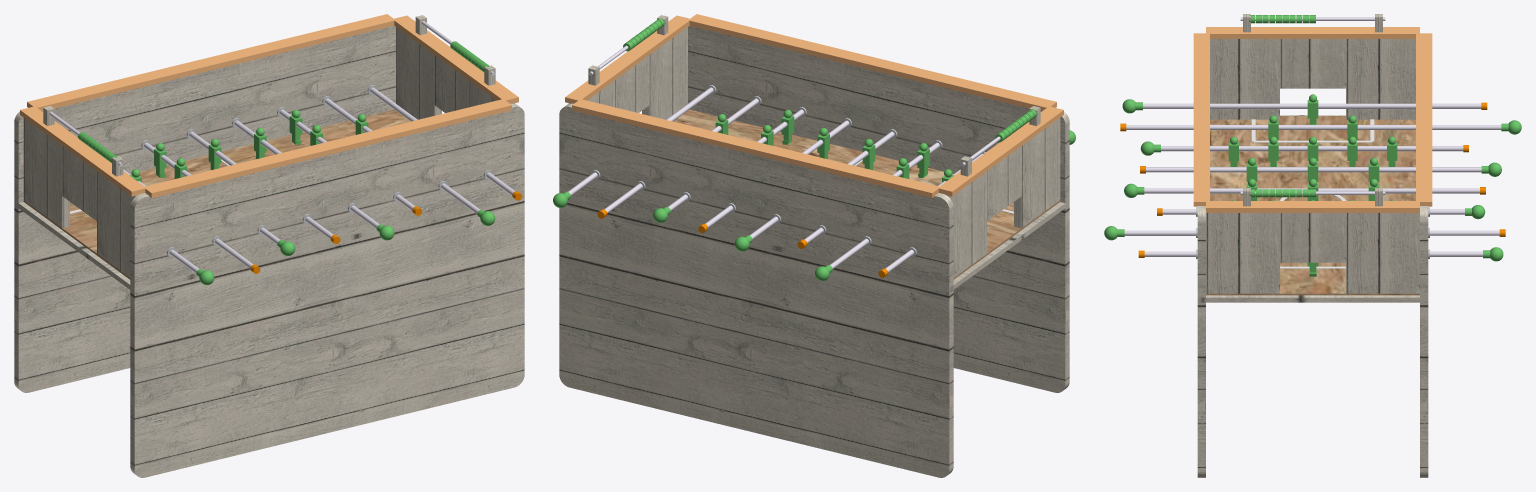
Rendered from Sports_Table_football__0018.glb.
3 renders of one model, left to right at view 1: azimuth 30°, elevation 25°; view 2: azimuth 150°, elevation 25°; view 3: azimuth 270°, elevation 25°, orthographic. The views are drawn at different scales.
Parts seen in each view (by area): view 1: cabinet::side_panel_0, cabinet::side_panel_1, cabinet::side_rim_0, cabinet::side_rim_1, cabinet::pitch, cabinet::end_wall_0_post_b, cabinet::end_wall_1_post_b, cabinet::cabinet_base, cabinet::end_wall_0_post_a, cabinet::end_rim_0, cabinet::end_rim_1, cabinet::end_wall_0_lintel (+2 smaller); view 2: cabinet::side_panel_1, cabinet::side_panel_0, cabinet::side_rim_1, cabinet::side_rim_0, cabinet::pitch, cabinet::end_wall_0_post_a, cabinet::cabinet_base, cabinet::end_wall_1_post_a, cabinet::end_wall_0_post_b, cabinet::end_rim_0, cabinet::end_rim_1, cabinet::end_wall_0_lintel (+2 smaller); view 3: cabinet::pitch, cabinet::end_wall_1_post_a, cabinet::end_wall_1_post_b, cabinet::end_wall_0_post_a, cabinet::end_wall_0_post_b, cabinet::end_wall_0_lintel, cabinet::end_wall_1_lintel, cabinet::side_rim_0, cabinet::side_rim_1, cabinet::end_rim_1, cabinet::end_rim_0, cabinet::side_panel_1 (+9 smaller).
Boxes of the visible parts, x1,y1,x2,y2 form: cabinet::side_panel_0: [130, 103, 524, 477]; cabinet::side_panel_1: [14, 25, 395, 392]; cabinet::side_rim_0: [144, 99, 511, 197]; cabinet::side_rim_1: [27, 14, 394, 111]; cabinet::pitch: [23, 109, 410, 279]; cabinet::end_wall_0_post_b: [23, 118, 69, 228]; cabinet::end_wall_1_post_b: [396, 27, 441, 119]; cabinet::cabinet_base: [14, 193, 524, 292]; cabinet::end_wall_0_post_a: [97, 171, 136, 277]; cabinet::end_rim_0: [20, 106, 145, 196]; cabinet::end_rim_1: [394, 15, 518, 103]; cabinet::end_wall_0_lintel: [62, 146, 96, 221]; cabinet::side_panel_1: [559, 103, 953, 477]; cabinet::side_panel_0: [688, 25, 1069, 392]; cabinet::side_rim_1: [572, 99, 939, 197]; cabinet::side_rim_0: [689, 14, 1056, 111]; cabinet::pitch: [673, 109, 1060, 279]; cabinet::end_wall_0_post_a: [1014, 118, 1060, 228]; cabinet::cabinet_base: [568, 196, 1068, 292]; cabinet::end_wall_1_post_a: [642, 27, 687, 119]; cabinet::end_wall_0_post_b: [946, 171, 986, 277]; cabinet::end_rim_0: [937, 106, 1063, 196]; cabinet::end_rim_1: [565, 15, 690, 103]; cabinet::end_wall_0_lintel: [987, 146, 1021, 221]; cabinet::pitch: [1206, 116, 1419, 295]; cabinet::end_wall_1_post_a: [1206, 213, 1279, 293]; cabinet::end_wall_1_post_b: [1346, 213, 1419, 293]; cabinet::end_wall_0_post_a: [1210, 39, 1279, 119]; cabinet::end_wall_0_post_b: [1346, 39, 1415, 119]; cabinet::end_wall_0_lintel: [1280, 39, 1345, 88]; cabinet::end_wall_1_lintel: [1280, 213, 1345, 262]; cabinet::side_rim_0: [1193, 33, 1209, 206]; cabinet::side_rim_1: [1416, 33, 1432, 206]; cabinet::end_rim_1: [1206, 201, 1419, 212]; cabinet::end_rim_0: [1206, 27, 1419, 38]; cabinet::side_panel_1: [1420, 206, 1428, 477].
Size of the model in its own units: 1.31 by 0.9645 by 1.27.
16 materials, 4 textured.
